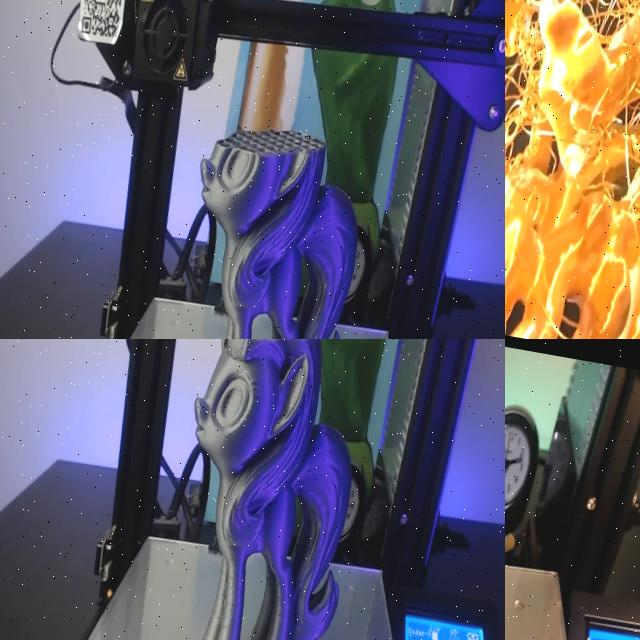spaghetti: (505, 0, 640, 339)
